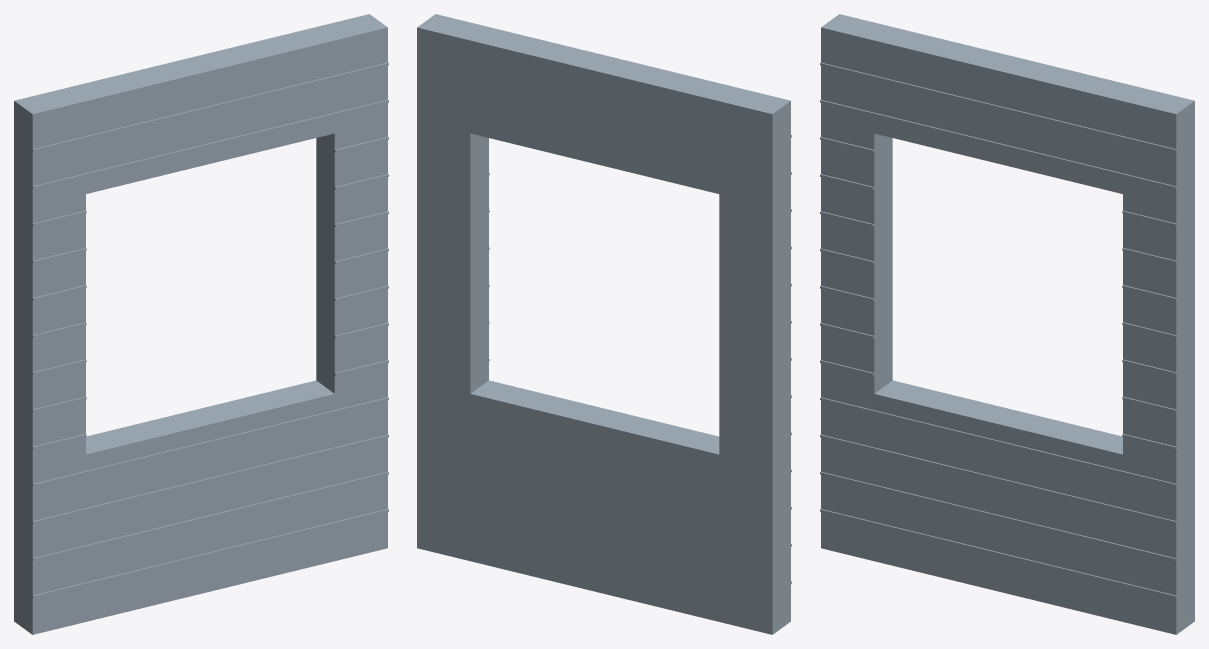
The model's file is SM_Wall_Window_2m_Siding.fbx.
3 renders of one model, left to right at view 1: azimuth 30°, elevation 25°; view 2: azimuth 150°, elevation 25°; view 3: azimuth 330°, elevation 25°, orthographic.
Parts seen in each view (by area): view 1: SM_Wall_Window_2m_Siding; view 2: SM_Wall_Window_2m_Siding; view 3: SM_Wall_Window_2m_Siding.
Boxes of the visible parts, left/top/right/bottom form: SM_Wall_Window_2m_Siding: left=14, top=14, right=388, bottom=634; SM_Wall_Window_2m_Siding: left=417, top=14, right=791, bottom=634; SM_Wall_Window_2m_Siding: left=820, top=14, right=1194, bottom=634.
Bounding box in the file's own units: 2 × 0.188 × 2.8.
